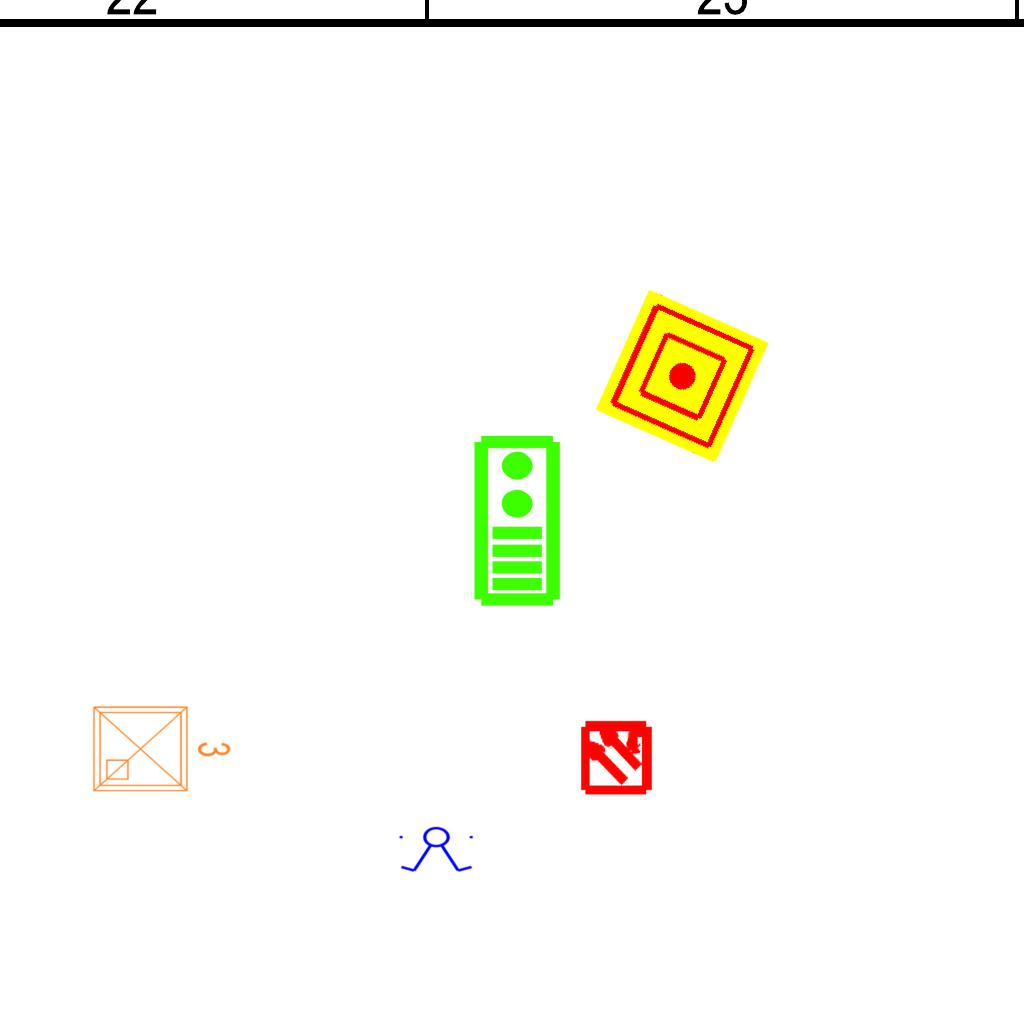Einbaudownlights_LED_Konferenzraeume: (86, 695, 236, 799)
Gegensprechanlage_mit_Video: (468, 432, 563, 608)
NAM-Nichtautomatischer_Melder: (594, 288, 770, 464)
OT_Multisensormelder_(Kombination_RMO_WMD): (560, 699, 673, 812)
Serienschalter: (395, 826, 479, 874)
